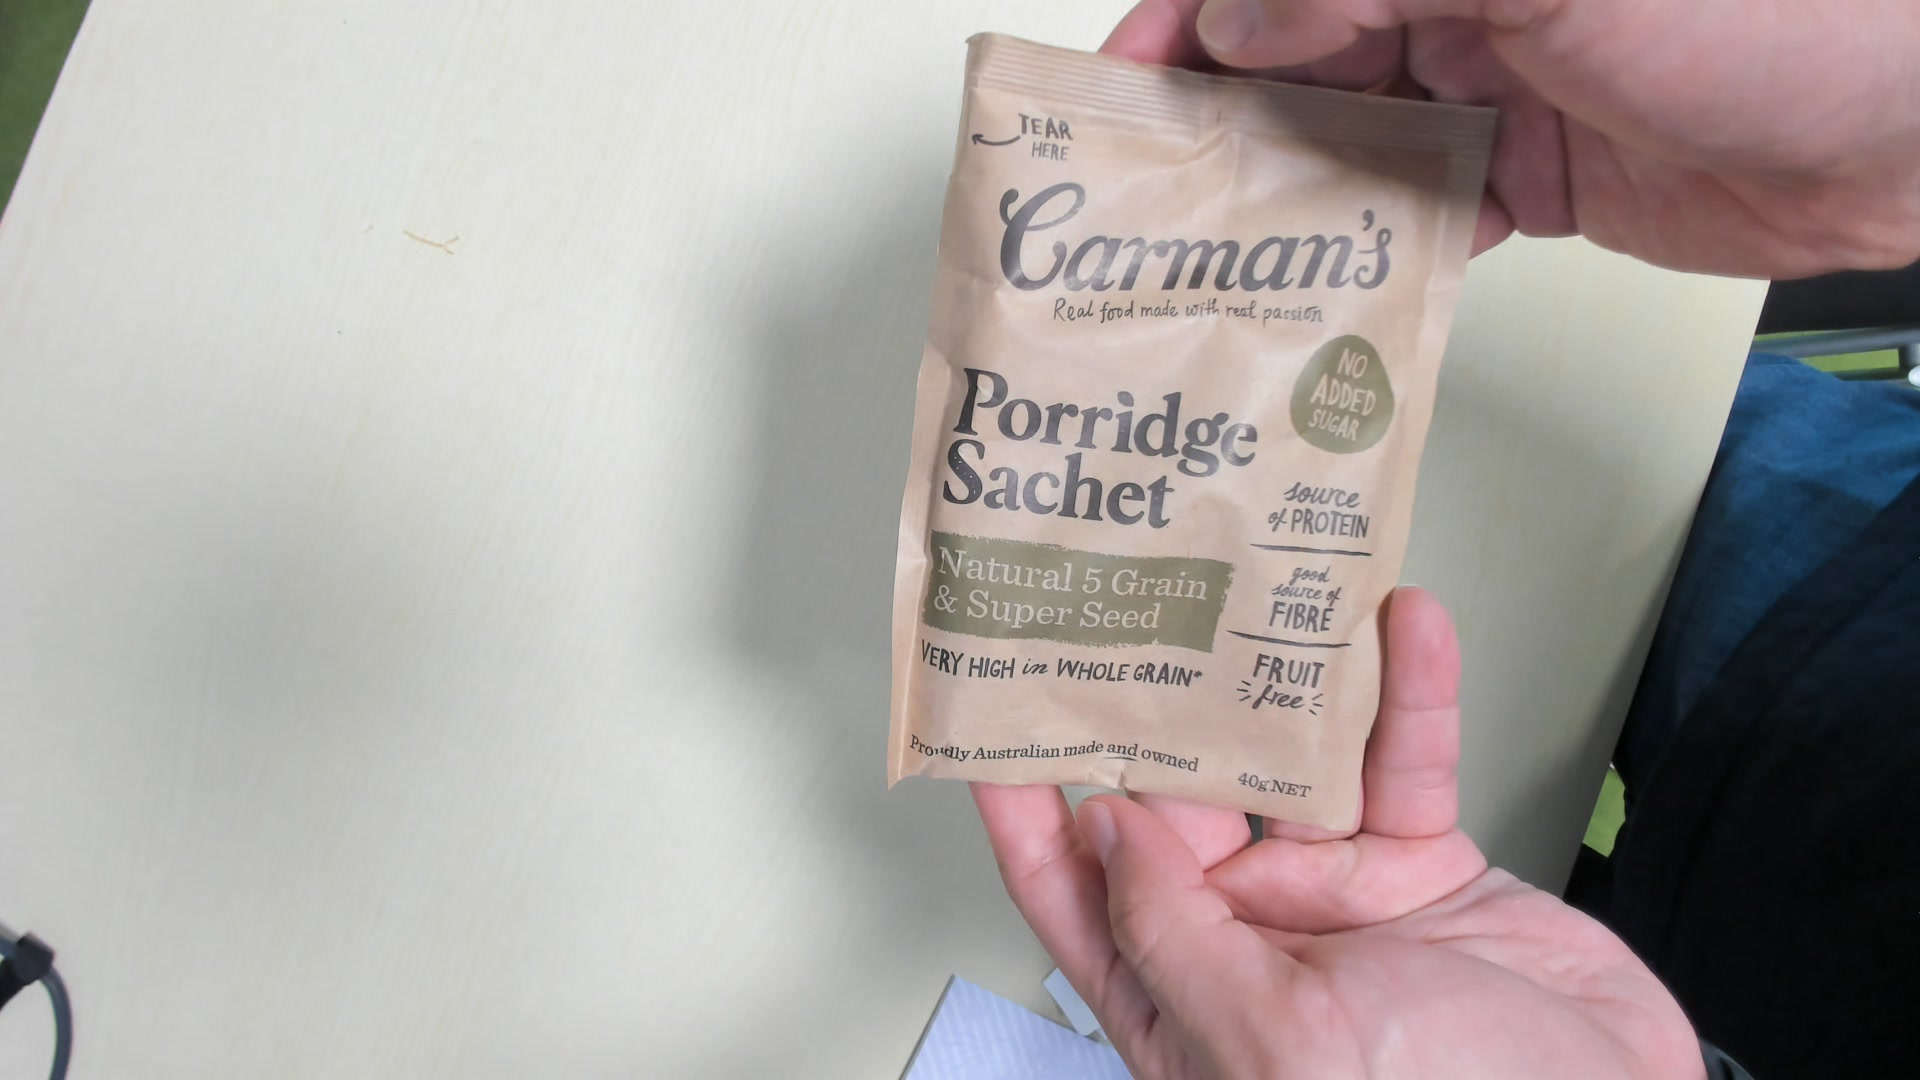InstantMeals_0-99g_NonHalal_NonHealthy: (882, 30, 1487, 837)
